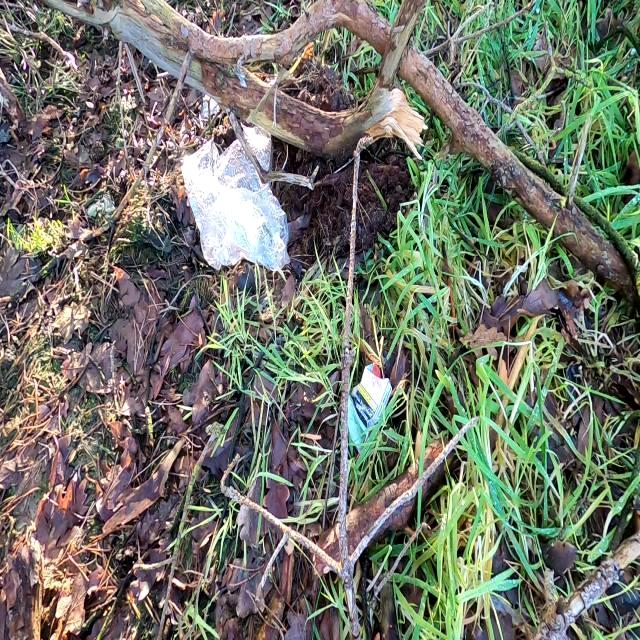Paper: (348, 361, 392, 453)
